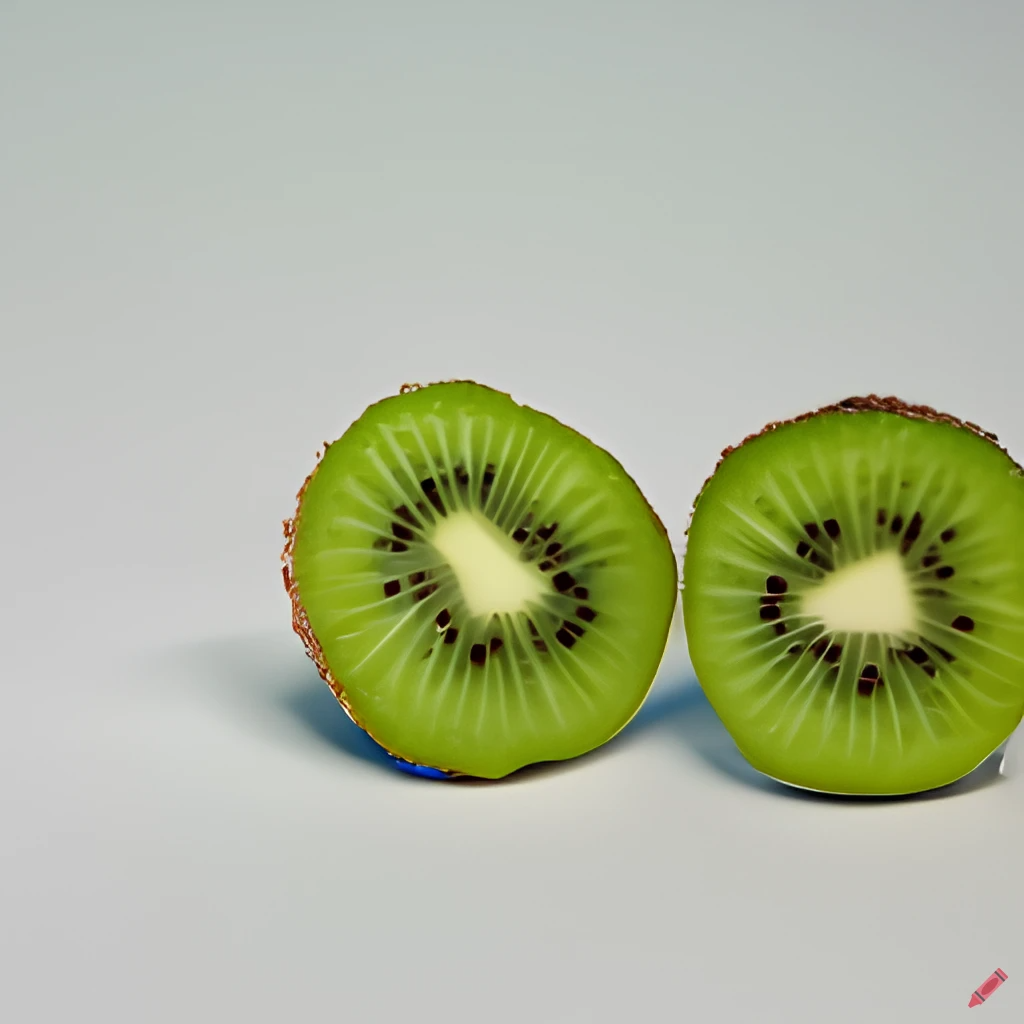Kiwi: (255, 341, 674, 816), (675, 386, 1024, 811)
